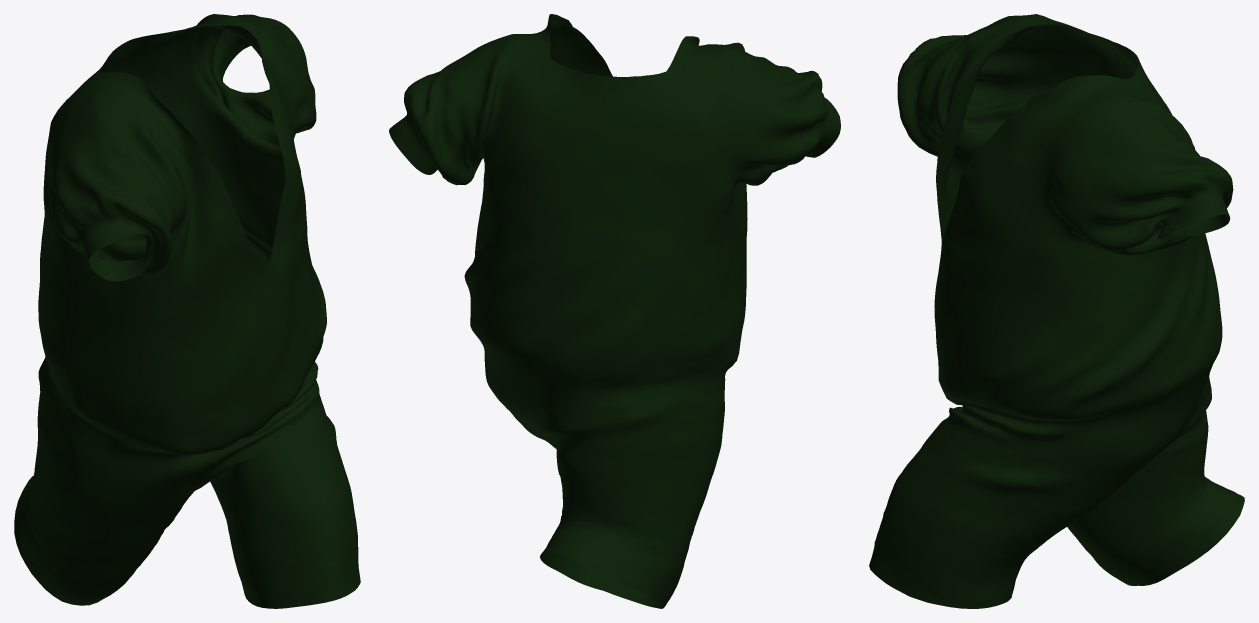
The model's file is jumpsuit.obj.
The picture shows the model from 3 angles, left to right: view 1: azimuth 30°, elevation 25°; view 2: azimuth 150°, elevation 25°; view 3: azimuth 270°, elevation 25°; orthographic projection. The views are drawn at different scales.
Visible parts, largest first — view 1: 0_rand_0VSVJX1NNC_sim; view 2: 0_rand_0VSVJX1NNC_sim; view 3: 0_rand_0VSVJX1NNC_sim.
Boxes of the visible parts, bbox=[...] form: 0_rand_0VSVJX1NNC_sim: bbox=[14, 14, 360, 608]; 0_rand_0VSVJX1NNC_sim: bbox=[389, 14, 840, 608]; 0_rand_0VSVJX1NNC_sim: bbox=[869, 14, 1244, 608].
Bounding box in the file's own units: 0.7673 × 1.25 × 0.7543.
